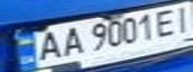0: (121, 14, 142, 44), (106, 17, 124, 48)
1: (136, 11, 157, 42)
9: (87, 20, 109, 53)
A: (30, 28, 66, 62), (57, 24, 87, 57)
E: (151, 7, 181, 38)
I: (172, 3, 193, 34)
